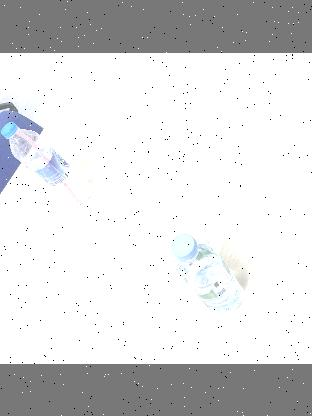Plastic Bottle: (0, 119, 97, 205), (167, 232, 247, 314)
